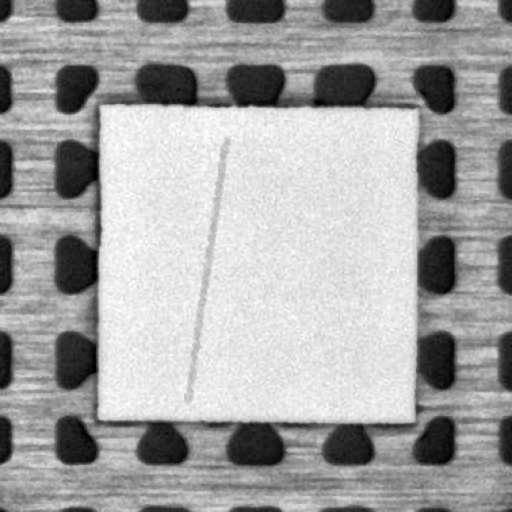DIE_CRACK: (186, 138, 224, 400)
